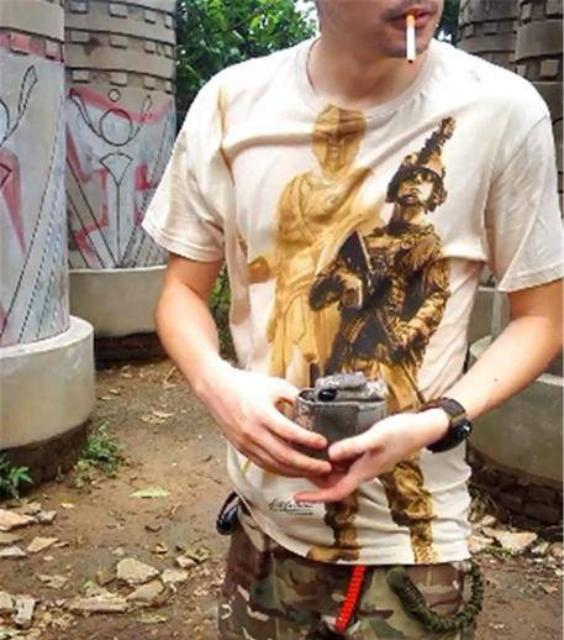Smoking: (399, 13, 422, 67)
